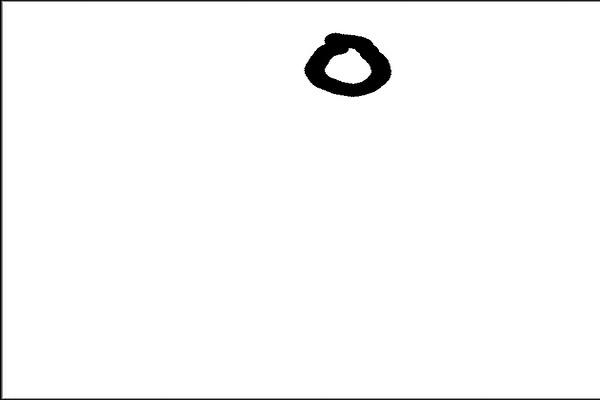O: (295, 24, 396, 101)
